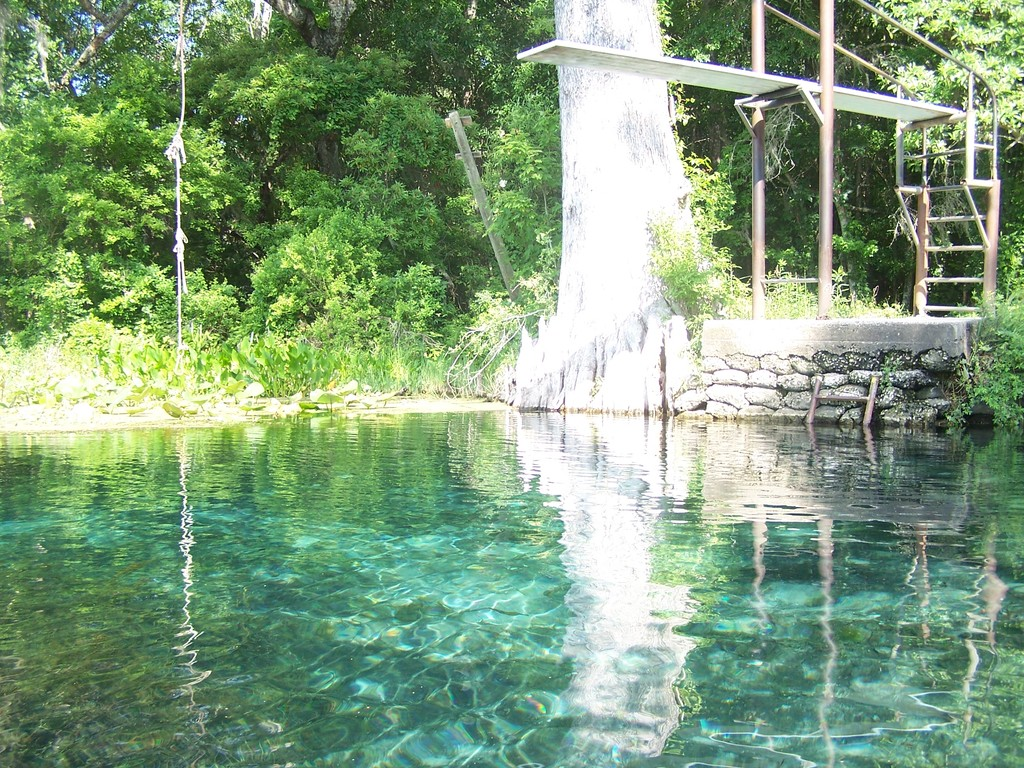Tree: (0, 0, 1023, 410), (252, 0, 396, 179)
